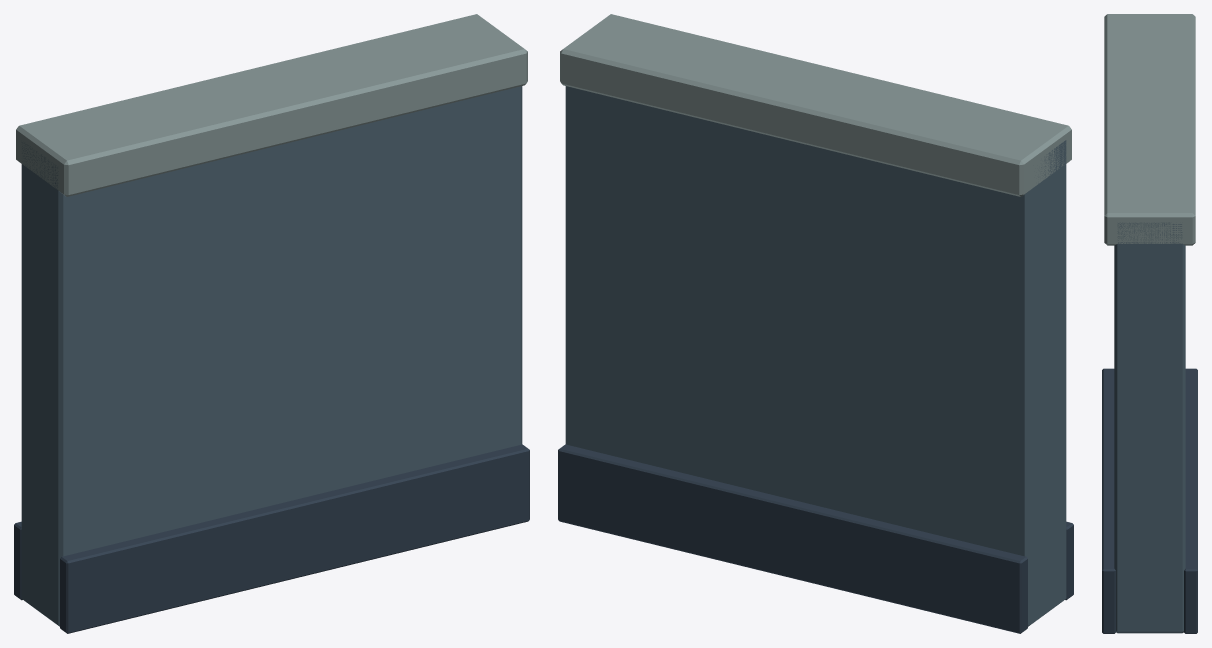
The model's file is wall_half.glb.
3 views of the same model, side by side, from view 1: azimuth 30°, elevation 25°; view 2: azimuth 150°, elevation 25°; view 3: azimuth 270°, elevation 25° (orthographic). The views are drawn at different scales.
Parts seen in each view (by area): view 1: wall_half__wall, wall_half__metal_light, wall_half__metal; view 2: wall_half__wall, wall_half__metal_light, wall_half__metal; view 3: wall_half__wall, wall_half__metal_light, wall_half__metal.
Part boxes in pixels (box(x1,y1,x2,y2)): wall_half__wall: box(21, 86, 522, 626); wall_half__metal_light: box(16, 14, 527, 196); wall_half__metal: box(14, 444, 529, 633); wall_half__wall: box(565, 86, 1066, 626); wall_half__metal_light: box(560, 14, 1071, 196); wall_half__metal: box(558, 444, 1073, 633); wall_half__wall: box(1114, 222, 1185, 633); wall_half__metal_light: box(1104, 14, 1195, 245); wall_half__metal: box(1102, 368, 1197, 633).
Bounding box in the file's own units: 1.2 × 1.16 × 0.241.
